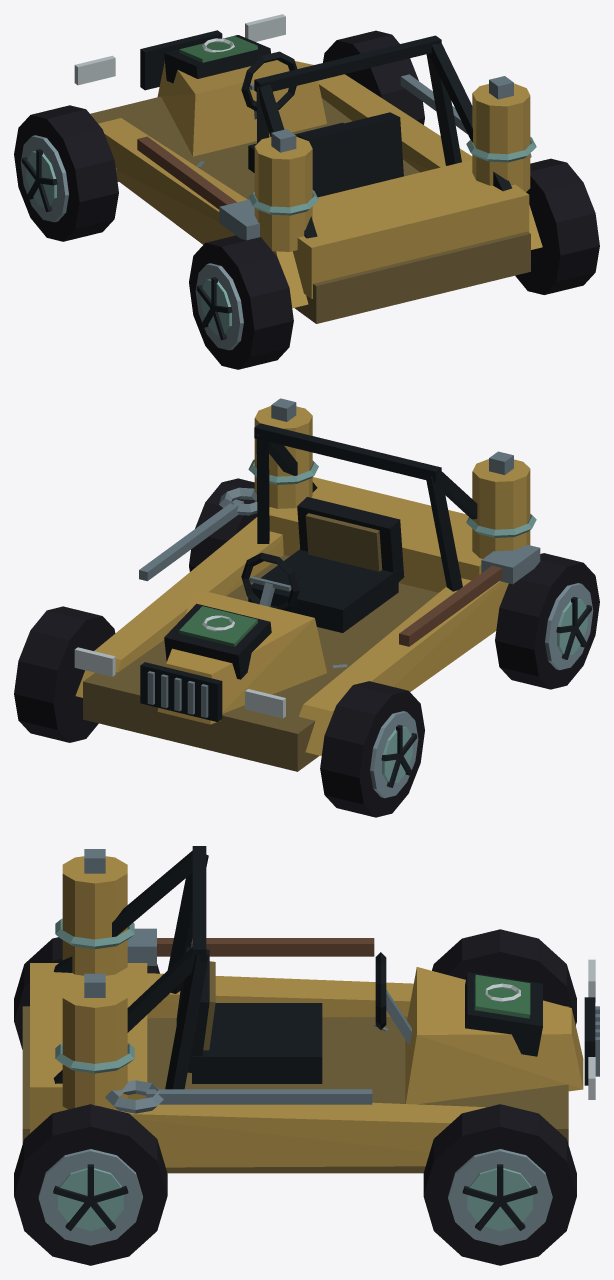
The model's file is kart.glb.
3 renders of one model, top to bottom at view 1: azimuth 30°, elevation 25°; view 2: azimuth 150°, elevation 25°; view 3: azimuth 270°, elevation 25°, orthographic. The views are drawn at different scales.
Parts seen in each view (by area): view 1: identity-buggy-buggy-offroad-frame, identity-buggy-motif-tanks, wheel-front-left, wheel-rear-left, wheel-rear-right, identity-buggy-driver-cockpit, identity-buggy-motif-tools, wheel-front-right, identity-buggy-motif-scanner; view 2: identity-buggy-buggy-offroad-frame, identity-buggy-driver-cockpit, wheel-front-left, wheel-rear-left, identity-buggy-motif-tanks, wheel-front-right, identity-buggy-motif-tools, identity-buggy-motif-scanner, wheel-rear-right; view 3: identity-buggy-buggy-offroad-frame, wheel-front-right, wheel-rear-right, identity-buggy-motif-tanks, identity-buggy-driver-cockpit, identity-buggy-motif-tools, wheel-front-left, identity-buggy-motif-scanner, wheel-rear-left.
Boxes of the visible parts, x1=… form: identity-buggy-buggy-offroad-frame: x1=74, y1=14, x2=542, y2=323; identity-buggy-motif-tanks: x1=248, y1=76, x2=536, y2=251; wheel-front-left: x1=14, y1=105, x2=118, y2=241; wheel-rear-left: x1=189, y1=235, x2=293, y2=369; wheel-rear-right: x1=515, y1=158, x2=599, y2=294; identity-buggy-driver-cockpit: x1=241, y1=51, x2=403, y2=197; identity-buggy-motif-tools: x1=137, y1=74, x2=531, y2=240; wheel-front-right: x1=323, y1=30, x2=424, y2=124; identity-buggy-motif-scanner: x1=164, y1=35, x2=270, y2=83; identity-buggy-buggy-offroad-frame: x1=74, y1=423, x2=508, y2=771; identity-buggy-driver-cockpit: x1=241, y1=497, x2=404, y2=632; wheel-front-left: x1=320, y1=681, x2=424, y2=817; wheel-rear-left: x1=495, y1=553, x2=599, y2=689; identity-buggy-motif-tanks: x1=248, y1=398, x2=536, y2=558; wheel-front-right: x1=14, y1=606, x2=115, y2=742; identity-buggy-motif-tools: x1=139, y1=487, x2=540, y2=646; identity-buggy-motif-scanner: x1=164, y1=603, x2=271, y2=679; wheel-rear-right: x1=189, y1=478, x2=257, y2=571; identity-buggy-buggy-offroad-frame: x1=22, y1=846, x2=599, y2=1173; wheel-front-right: x1=423, y1=1104, x2=576, y2=1265; wheel-rear-right: x1=14, y1=1104, x2=167, y2=1265; identity-buggy-motif-tanks: x1=55, y1=849, x2=134, y2=1110; identity-buggy-driver-cockpit: x1=176, y1=947, x2=411, y2=1083; identity-buggy-motif-tools: x1=105, y1=928, x2=374, y2=1113; wheel-front-left: x1=432, y1=929, x2=576, y2=1025; identity-buggy-motif-scanner: x1=465, y1=972, x2=542, y2=1056; wheel-rear-left: x1=14, y1=937, x2=159, y2=1049.
Size of the model in its own units: 2.31 by 1.39 by 2.75.
